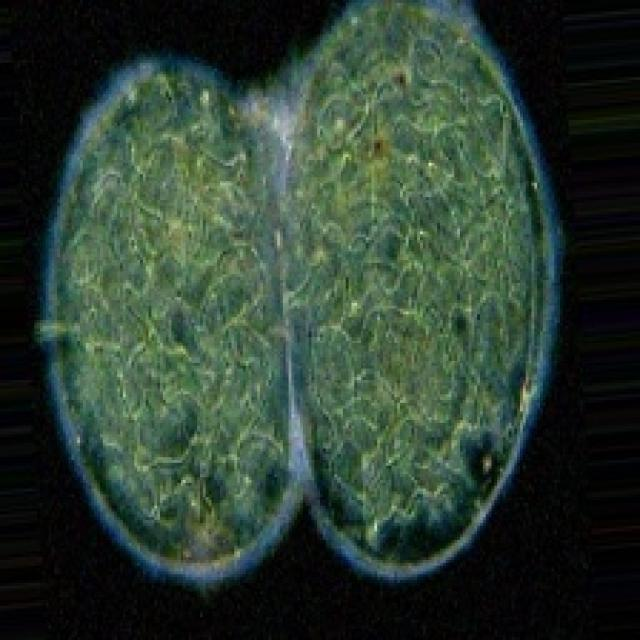Spherical_bacteria: (266, 0, 563, 583), (31, 51, 306, 586)
